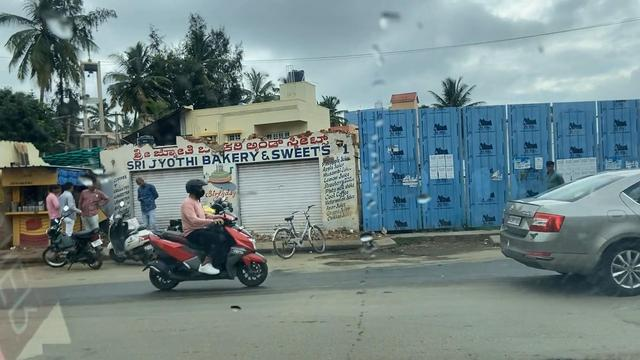LMV: (148, 181, 263, 277)
